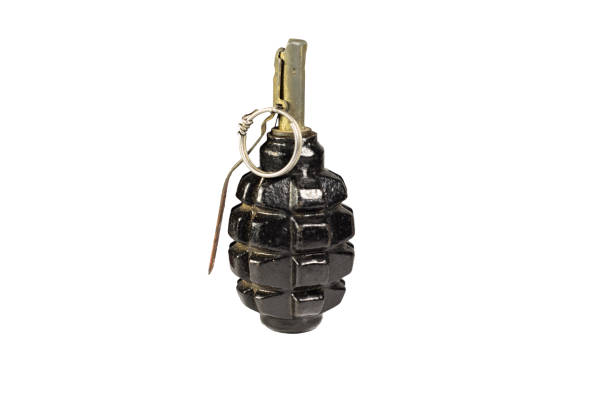e1: (209, 39, 356, 330)
